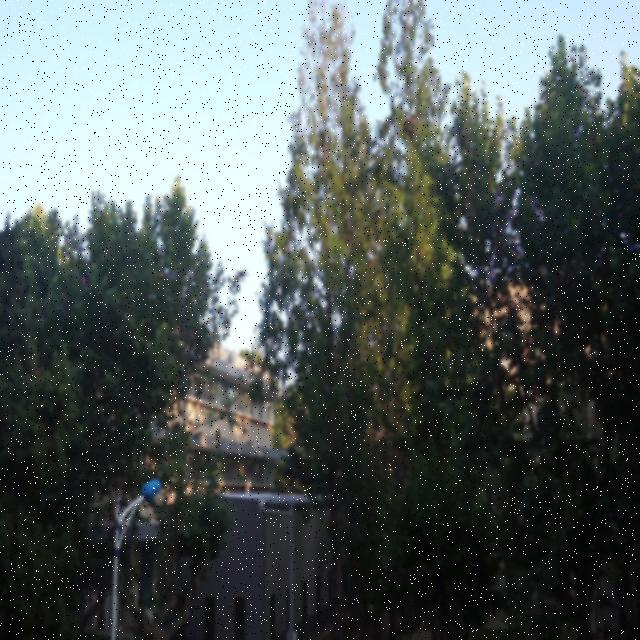UAV: (235, 268, 248, 281)
